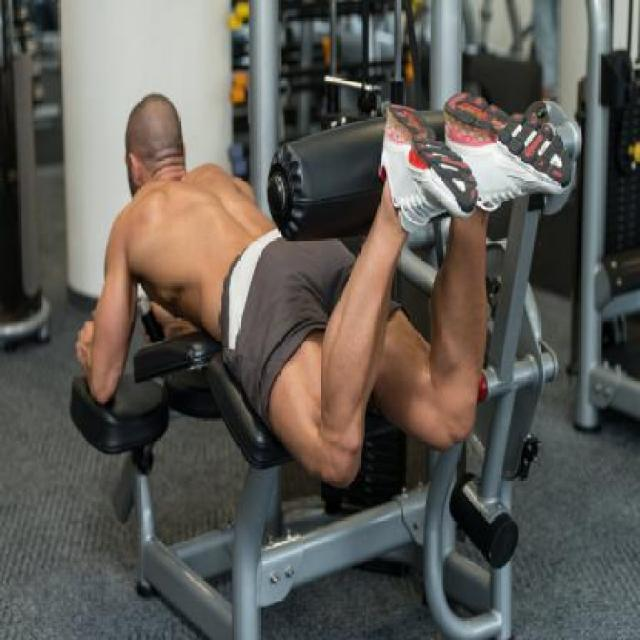reg curl machine: (68, 9, 583, 640)
